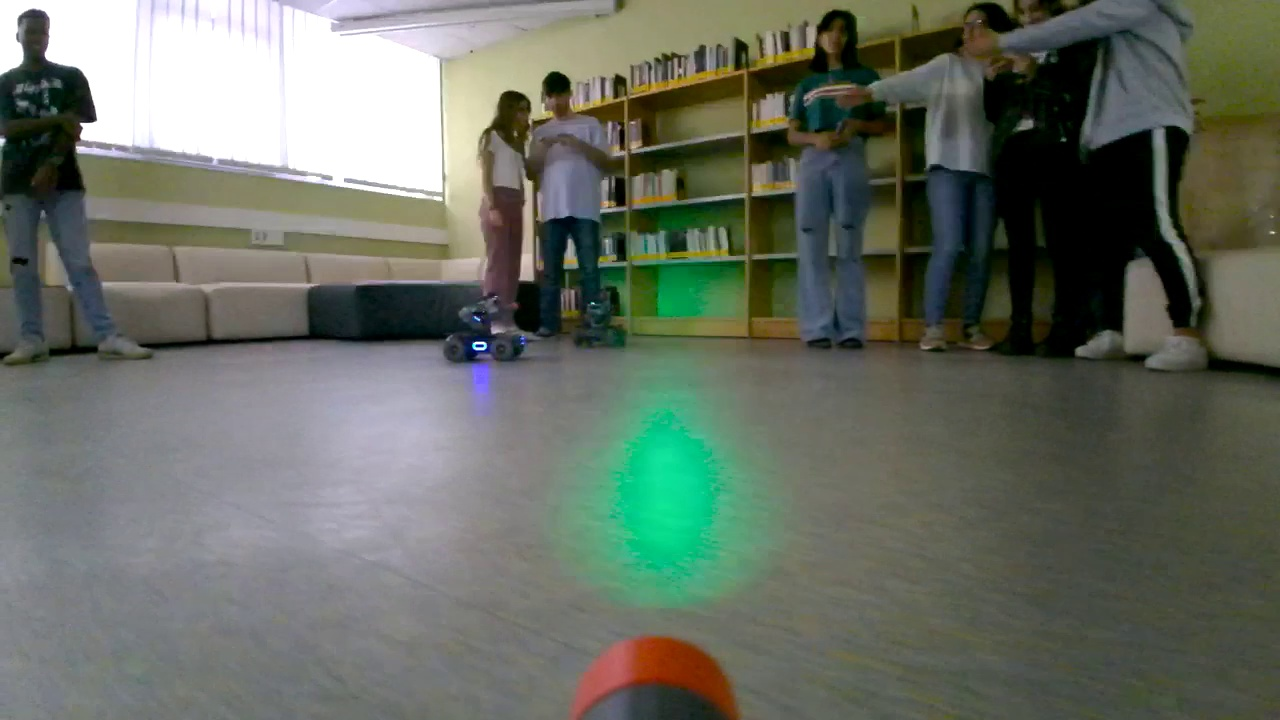robot: (440, 289, 529, 366)
